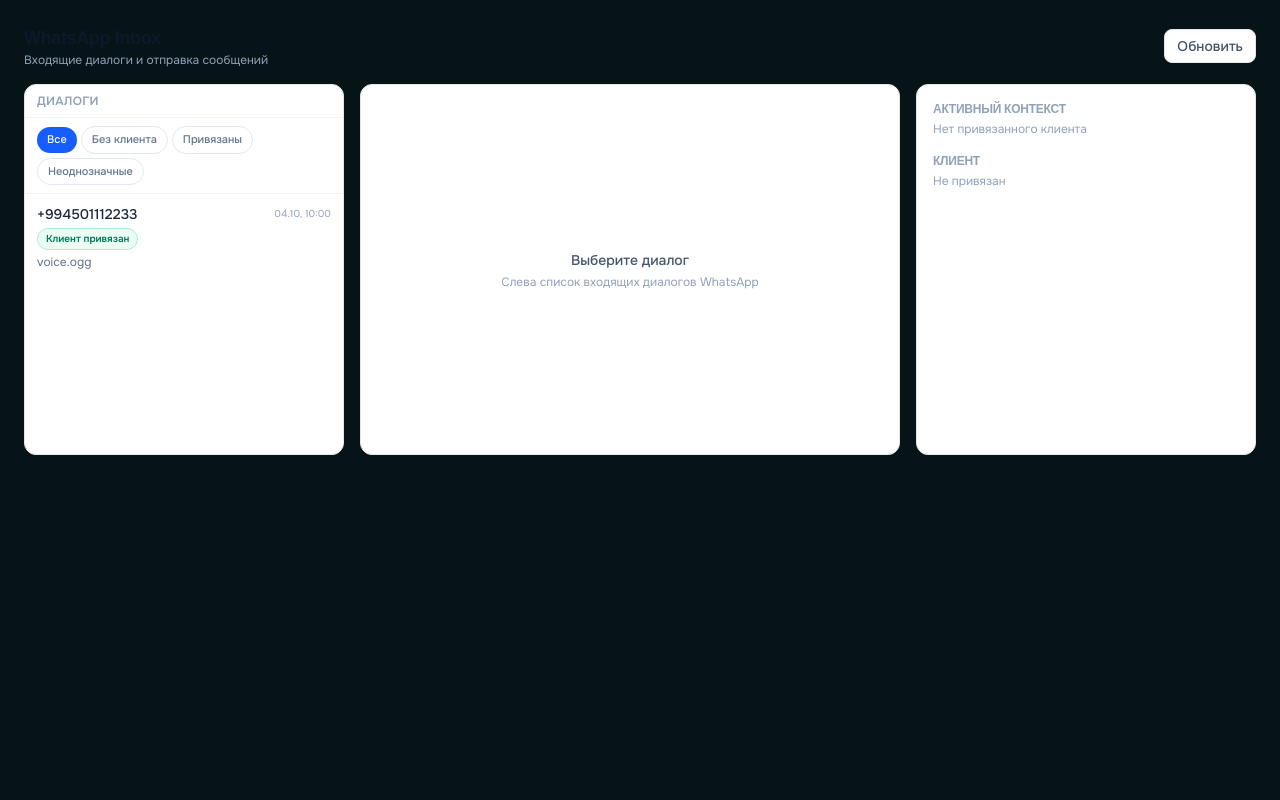
Test: WhatsappInboxPage — M5 вложения (аудио-плеер) › аудио-сообщение НЕ рендерит ссылку-скачивание (только плеер)
The image size is (1280, 800).
Click the button "+994501112233". click: (87, 214)
box: [25, 194, 343, 280]
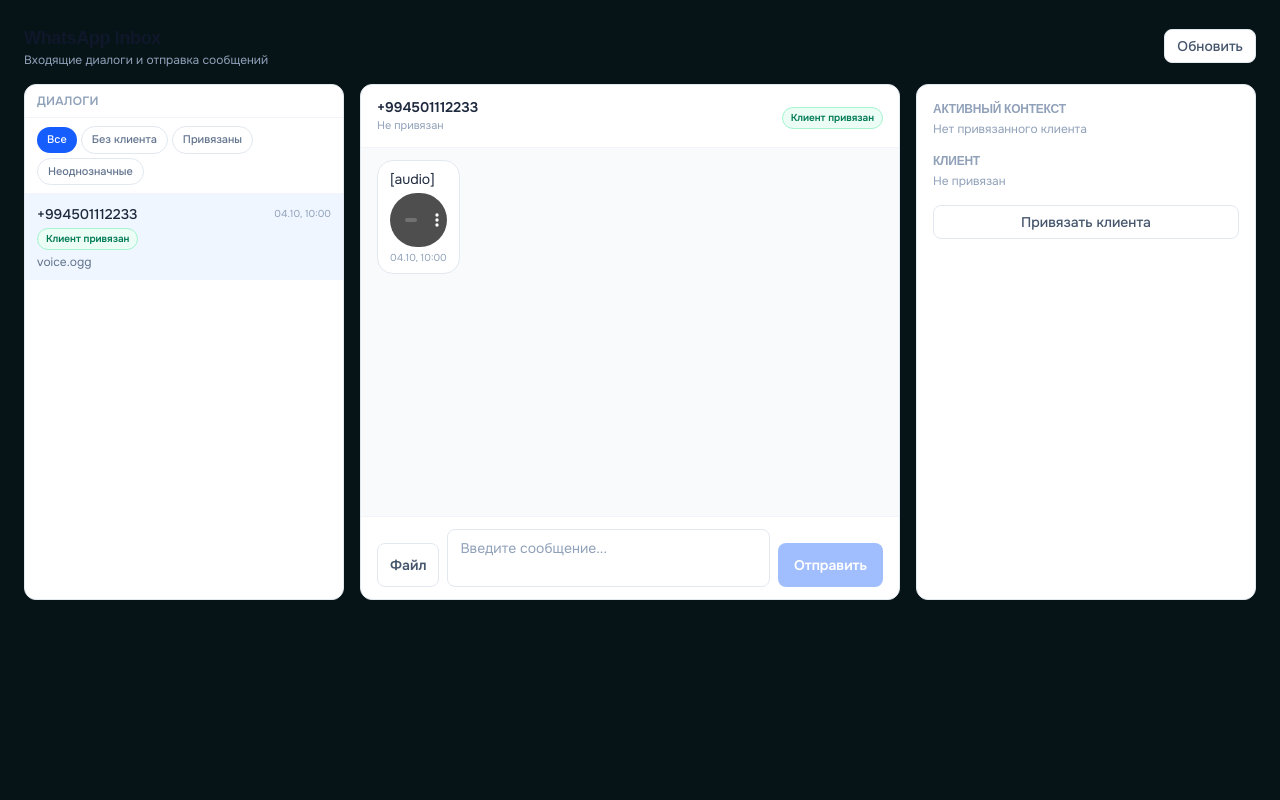
Expected: the element with test id "audio-player" is shown, [390, 193, 447, 247]
